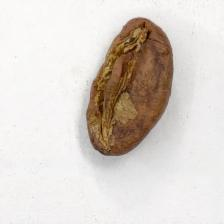NG: (90, 22, 154, 147)
